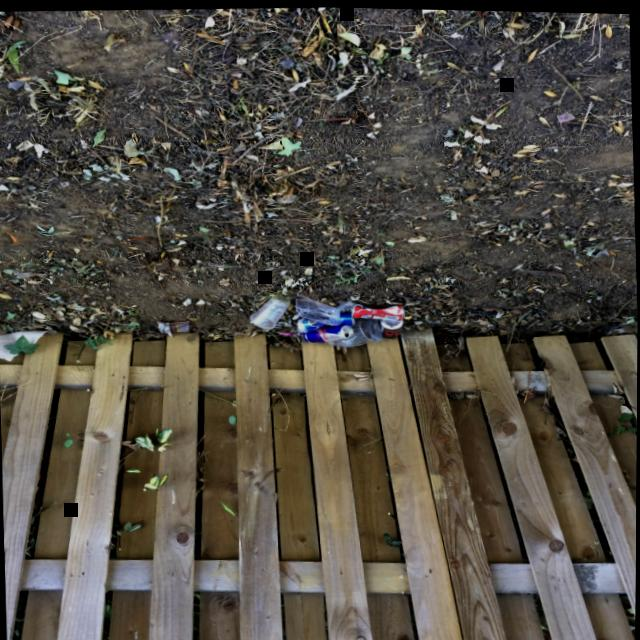Aluminium foil: (159, 324, 170, 333)
Disposable plastic cup: (250, 294, 291, 328), (328, 316, 372, 345)
Drink can: (347, 301, 405, 318), (302, 323, 353, 341), (297, 316, 329, 331), (380, 317, 403, 337), (333, 309, 355, 324)
Other carton: (158, 318, 191, 336)
Other plastic bottle: (296, 292, 355, 324), (364, 316, 382, 340)
Pop tab: (347, 306, 353, 309)
Unlabeled litter: (0, 329, 57, 361), (556, 109, 575, 119), (279, 331, 302, 334)
